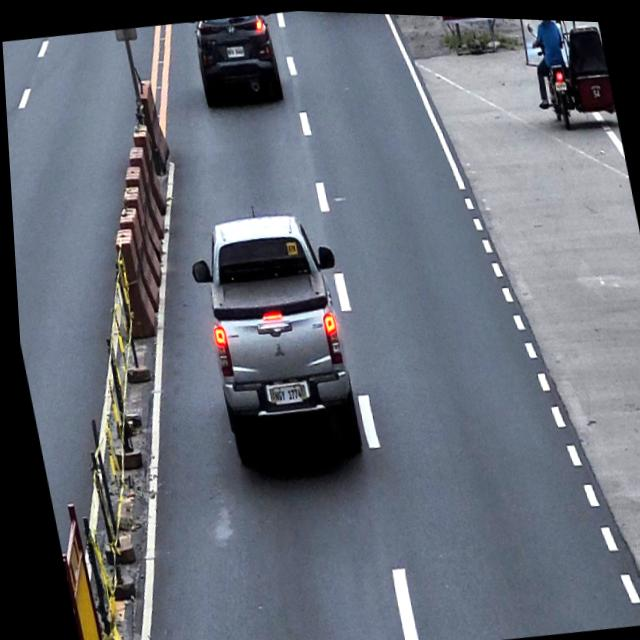Car: (178, 198, 368, 470), (190, 10, 284, 110)
License-Plate: (259, 374, 307, 406), (225, 41, 245, 58), (553, 75, 567, 88)
Tricycle: (514, 15, 616, 131)
